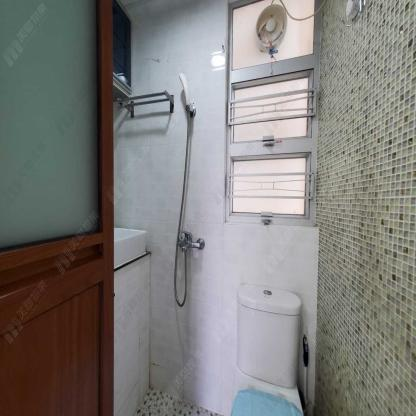Exhaust Fan: (252, 1, 292, 57)
Toilet: (231, 284, 303, 416)
